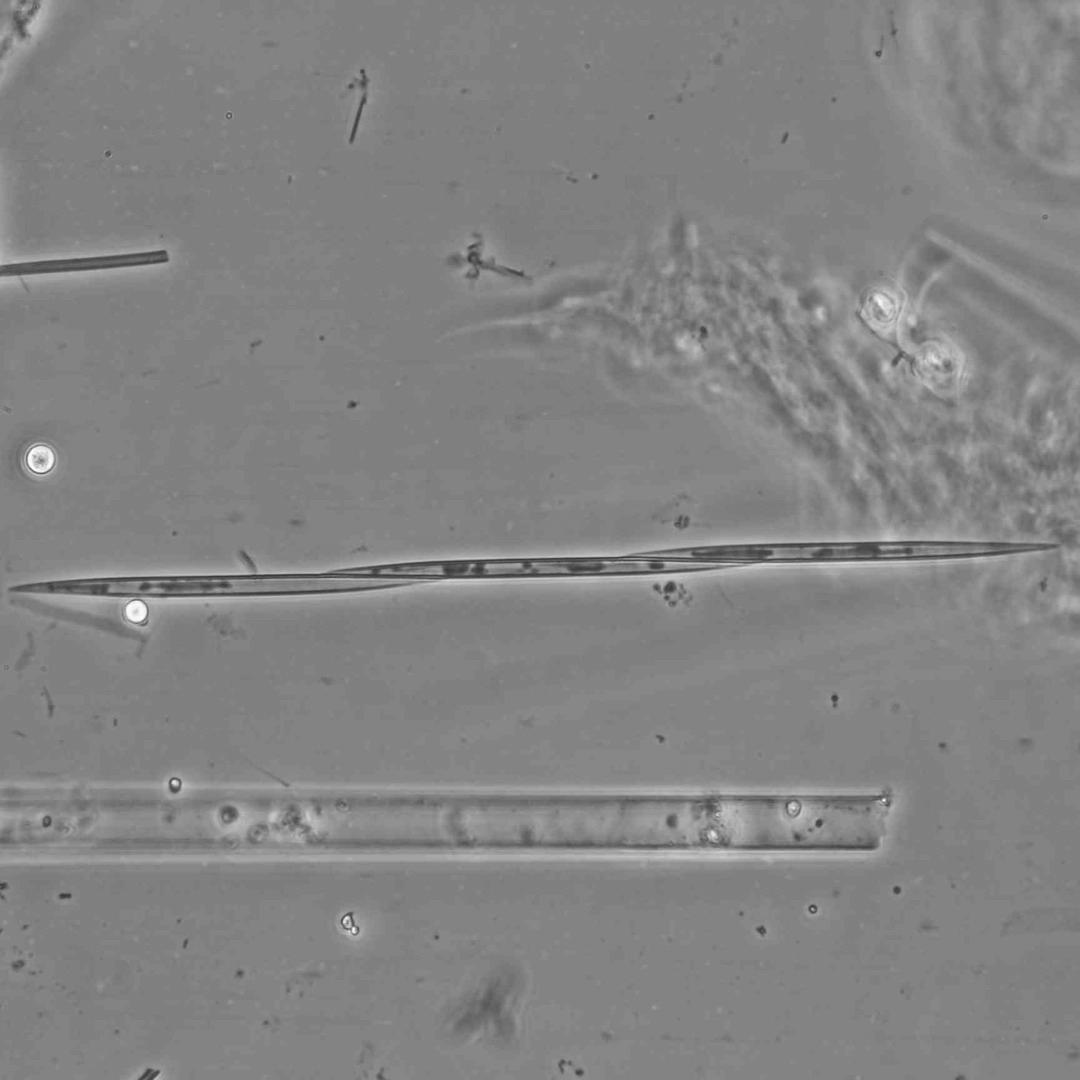pseudo_nitzschia: (8, 537, 1066, 597)
